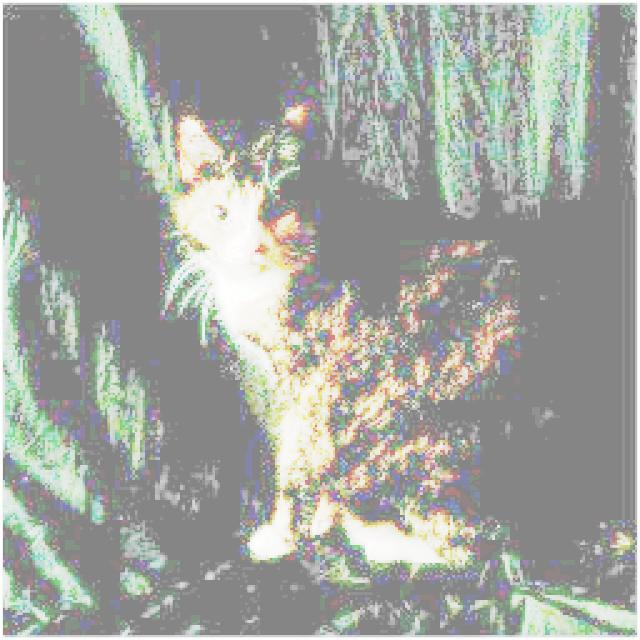cat: (166, 112, 516, 582)
